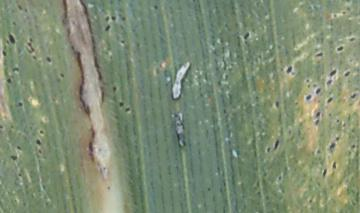tarspot: (26, 38, 34, 52), (8, 32, 16, 43), (285, 63, 293, 74), (328, 142, 336, 152), (273, 138, 279, 151), (9, 153, 18, 161), (335, 44, 344, 52), (104, 23, 111, 33), (331, 159, 337, 170), (243, 30, 250, 39), (12, 66, 20, 73), (35, 138, 42, 146), (104, 14, 111, 22), (329, 69, 337, 76), (348, 36, 356, 43), (322, 168, 327, 179), (274, 101, 280, 110), (15, 144, 22, 151), (305, 94, 312, 101), (315, 88, 322, 95), (344, 70, 351, 77), (315, 51, 323, 57), (327, 96, 333, 104), (112, 84, 117, 93), (287, 127, 292, 136), (1, 50, 7, 57), (17, 5, 23, 12), (38, 129, 44, 136), (125, 106, 131, 113), (118, 101, 124, 108), (153, 4, 159, 11), (265, 146, 271, 153), (277, 174, 283, 181), (327, 79, 333, 86), (315, 111, 321, 118), (350, 93, 357, 99), (254, 94, 260, 101), (120, 38, 125, 46), (59, 72, 65, 78), (6, 77, 12, 83), (106, 184, 112, 190), (315, 120, 321, 126), (334, 135, 340, 141), (316, 148, 322, 154), (18, 101, 23, 108), (46, 56, 51, 62), (38, 148, 43, 154), (112, 15, 117, 21), (206, 186, 211, 192), (305, 78, 311, 83), (12, 20, 17, 26), (327, 112, 333, 117), (308, 198, 313, 204), (294, 100, 299, 106), (32, 55, 37, 60), (121, 16, 126, 21), (342, 10, 347, 15), (333, 13, 338, 18), (336, 119, 341, 124), (306, 84, 311, 89), (17, 173, 23, 177), (1, 123, 4, 130), (351, 143, 355, 148), (223, 109, 227, 114)
